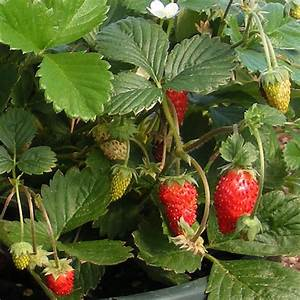Fresa: (211, 158, 269, 240), (153, 170, 201, 240), (42, 256, 81, 298)
